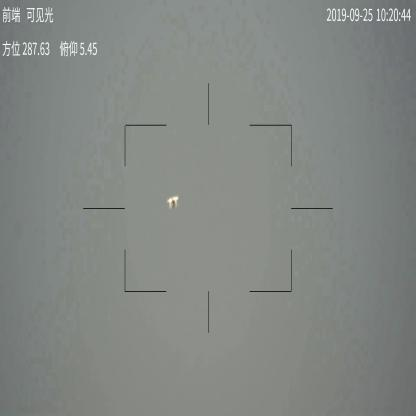uav: (165, 193, 181, 211)
